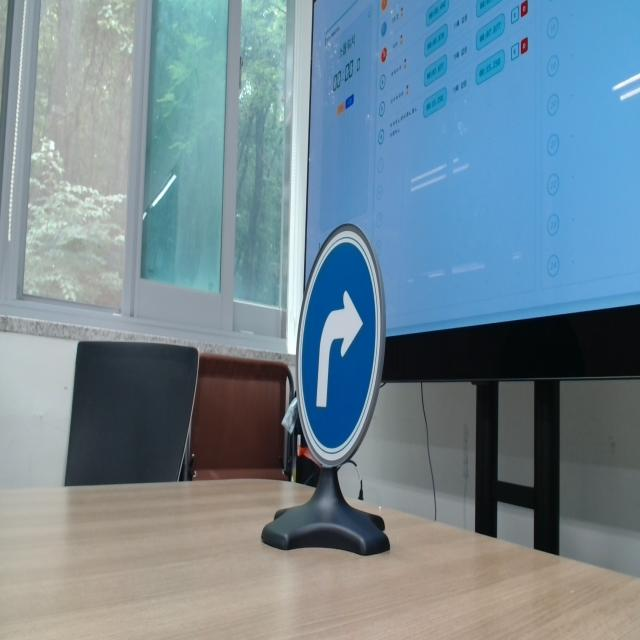right_dierection: (294, 204, 397, 500)
